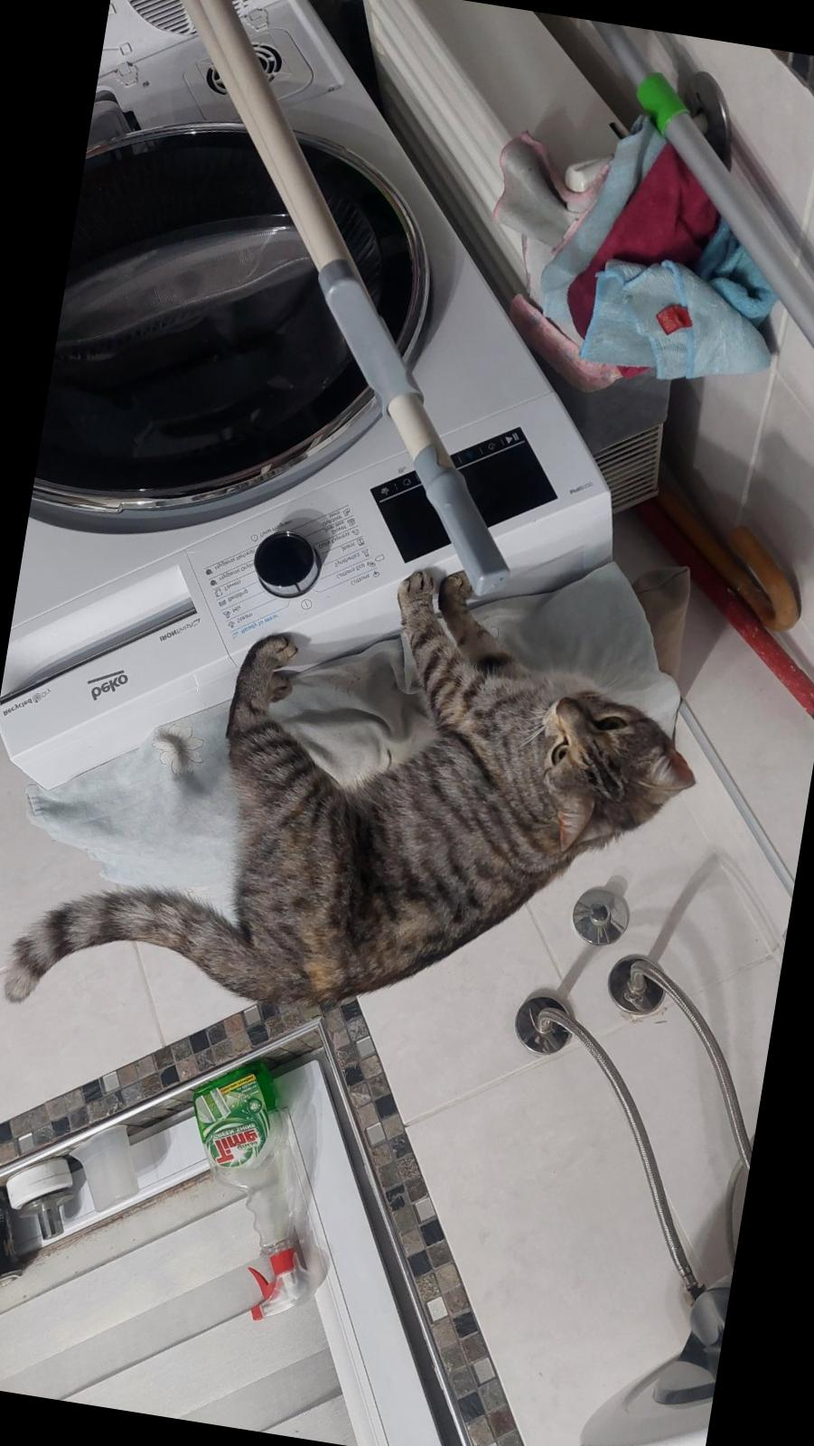macka: (0, 504, 733, 1110)
